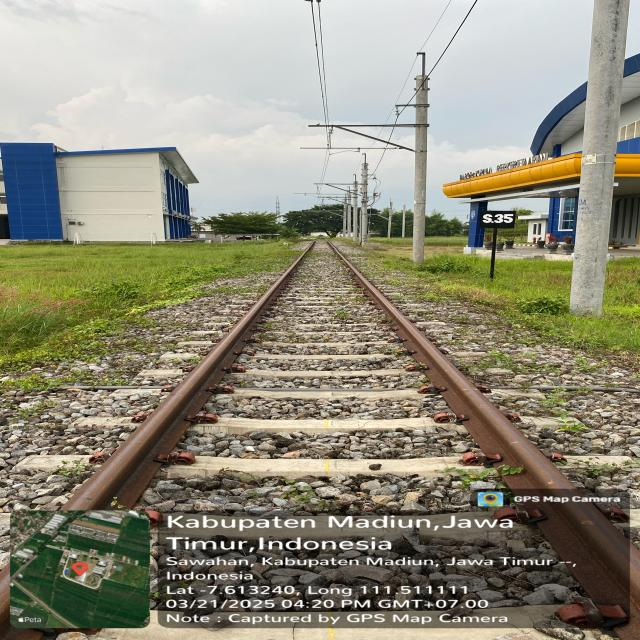rail-detection: (328, 240, 640, 605), (71, 241, 314, 509)
